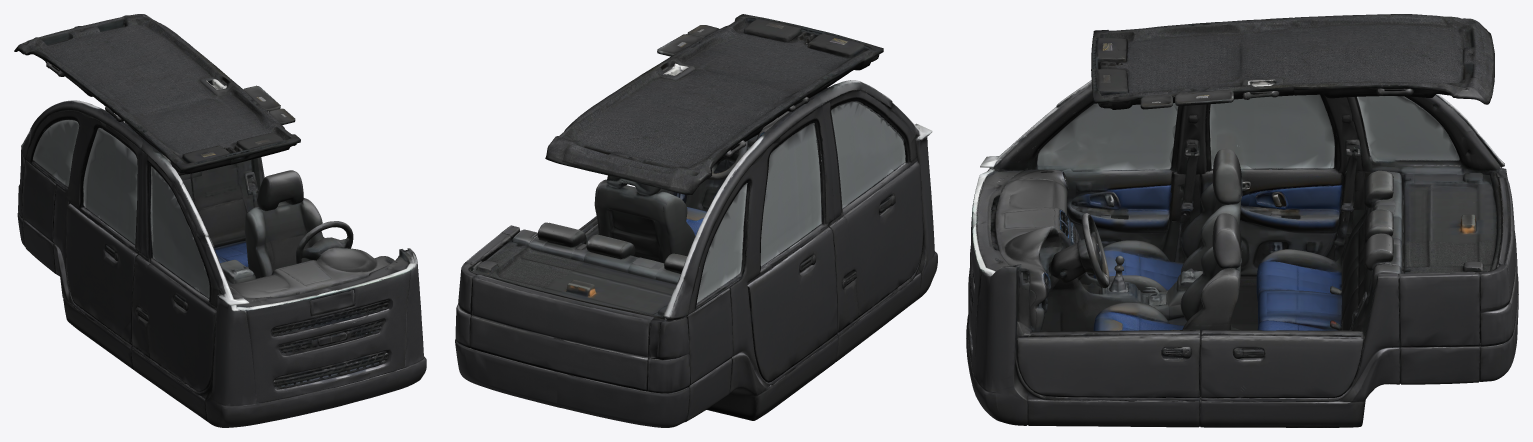
The model's file is tripo-full-cabin-textured.glb.
The picture shows the model from 3 angles, left to right: view 1: azimuth 30°, elevation 25°; view 2: azimuth 150°, elevation 25°; view 3: azimuth 270°, elevation 25°; orthographic projection. The views are drawn at different scales.
Visible parts, largest first — view 1: tripo_part_1, tripo_part_0, tripo_part_30, tripo_part_35, tripo_part_36, tripo_part_2, tripo_part_51, tripo_part_6, tripo_part_67, tripo_part_38, tripo_part_31, tripo_part_43 (+21 smaller); view 2: tripo_part_0, tripo_part_1, tripo_part_36, tripo_part_35, tripo_part_51, tripo_part_33, tripo_part_2, tripo_part_67, tripo_part_38, tripo_part_31, tripo_part_46, tripo_part_7 (+10 smaller); view 3: tripo_part_0, tripo_part_1, tripo_part_44, tripo_part_47, tripo_part_11, tripo_part_33, tripo_part_10, tripo_part_70, tripo_part_6, tripo_part_2, tripo_part_9, tripo_part_4 (+33 smaller).
Boxes of the visible parts, <box> form: tripo_part_1: <box>14,14,300,173</box>; tripo_part_0: <box>17,122,426,427</box>; tripo_part_30: <box>246,268,412,403</box>; tripo_part_35: <box>144,253,216,392</box>; tripo_part_36: <box>66,202,136,345</box>; tripo_part_2: <box>244,170,323,278</box>; tripo_part_51: <box>80,126,137,245</box>; tripo_part_6: <box>229,248,394,298</box>; tripo_part_67: <box>152,168,209,299</box>; tripo_part_38: <box>27,118,79,192</box>; tripo_part_31: <box>69,100,211,302</box>; tripo_part_43: <box>104,125,154,265</box>; tripo_part_0: <box>455,137,937,427</box>; tripo_part_1: <box>545,14,883,194</box>; tripo_part_36: <box>747,229,837,382</box>; tripo_part_35: <box>842,158,923,317</box>; tripo_part_51: <box>760,120,825,269</box>; tripo_part_33: <box>472,245,675,316</box>; tripo_part_2: <box>594,175,695,263</box>; tripo_part_67: <box>831,102,905,204</box>; tripo_part_38: <box>690,182,749,315</box>; tripo_part_31: <box>727,80,911,177</box>; tripo_part_46: <box>688,142,780,316</box>; tripo_part_7: <box>505,229,680,286</box>; tripo_part_0: <box>966,165,1518,427</box>; tripo_part_1: <box>1091,14,1494,109</box>; tripo_part_44: <box>1017,336,1200,398</box>; tripo_part_47: <box>1199,335,1363,398</box>; tripo_part_11: <box>1205,94,1340,172</box>; tripo_part_33: <box>1407,172,1496,273</box>; tripo_part_10: <box>1355,94,1504,174</box>; tripo_part_70: <box>1036,103,1177,172</box>; tripo_part_6: <box>991,169,1068,314</box>; tripo_part_2: <box>1180,213,1241,331</box>; tripo_part_9: <box>1033,157,1172,274</box>; tripo_part_4: <box>1179,148,1242,272</box>.
Size of the model in its own units: 0.5221 by 0.5797 by 0.9796.
Materials: 100 (100 with a texture image).
